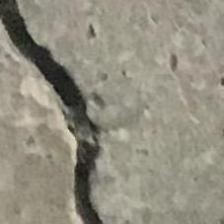Crack: (0, 0, 154, 224)
